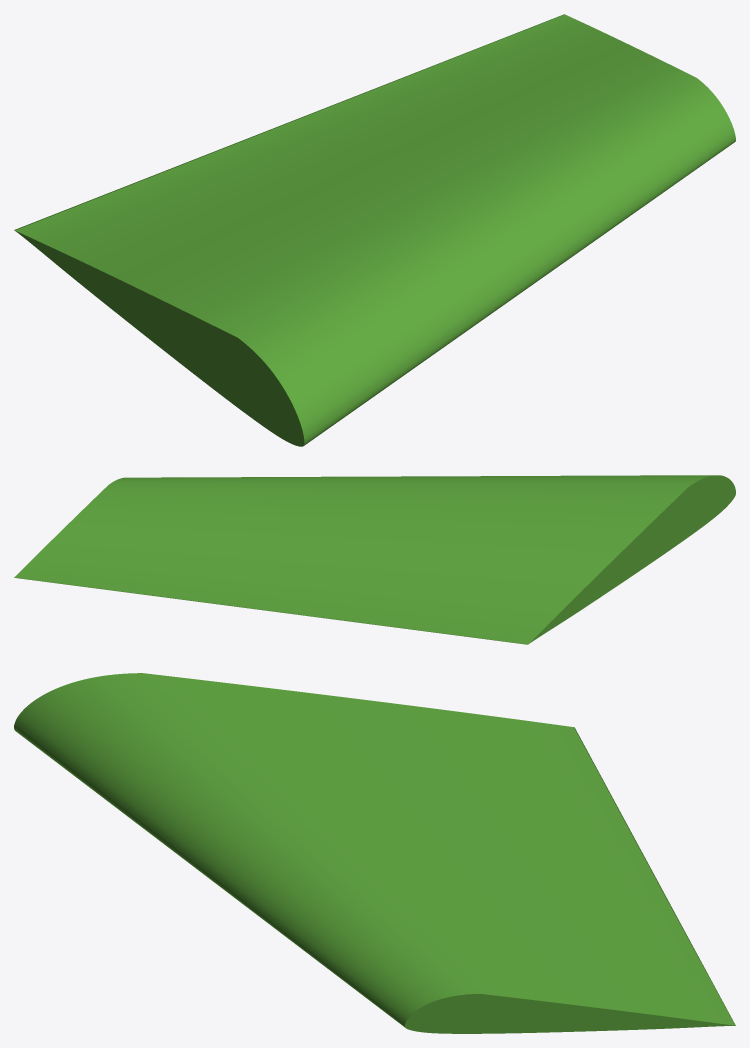
Rendered from wing_root_left.dae.
3 views of the same model, one above another, from view 1: azimuth 30°, elevation 25°; view 2: azimuth 150°, elevation 25°; view 3: azimuth 270°, elevation 25° (orthographic). The views are drawn at different scales.
Parts seen in each view (by area): view 1: ID2; view 2: ID2; view 3: ID2.
Part boxes in pixels (<box>): ID2: <box>14,14,735,446</box>; ID2: <box>14,475,735,644</box>; ID2: <box>14,673,735,1033</box>.
Size of the model in its own units: 3.07 by 3.14 by 0.3251.
